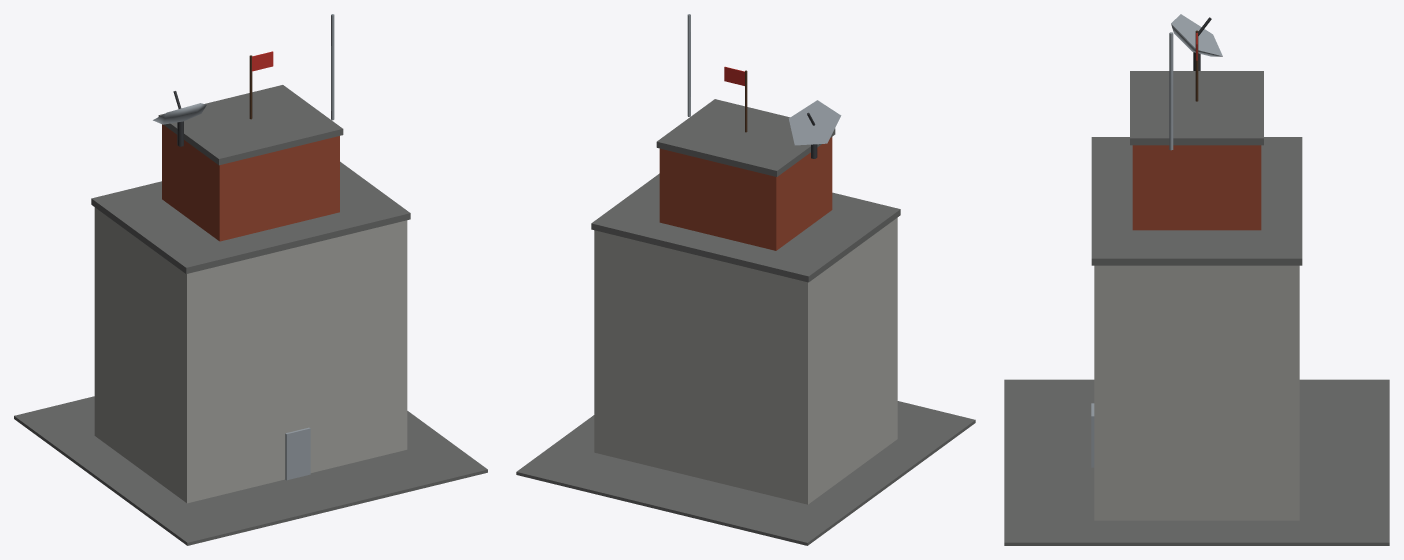
File: bld_special_command_center_a06_lod2.glb
The picture shows the model from 3 angles, left to right: view 1: azimuth 30°, elevation 25°; view 2: azimuth 150°, elevation 25°; view 3: azimuth 270°, elevation 25°; orthographic projection. The views are drawn at different scales.
Parts seen in each view (by area): view 1: body, antenna; view 2: body, antenna; view 3: body, antenna.
Boxes of the visible parts, box(x1,y1,x2,y2) form: body: box(14, 14, 487, 545); antenna: box(153, 91, 206, 146); body: box(516, 14, 975, 545); antenna: box(788, 100, 841, 158); body: box(1004, 30, 1389, 545); antenna: box(1171, 14, 1222, 70).
Bounding box in the file's own units: 15 × 20.15 × 15.
